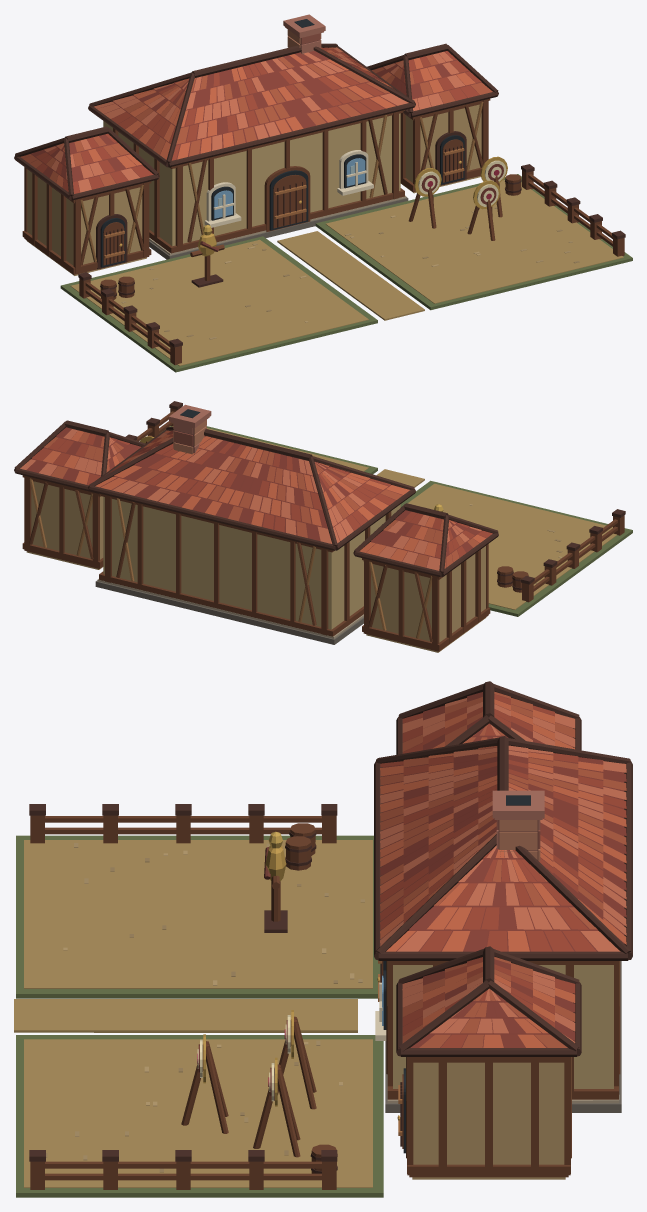
File: barracks-nivel-3.glb
3 renders of one model, top to bottom at view 1: azimuth 30°, elevation 25°; view 2: azimuth 150°, elevation 25°; view 3: azimuth 270°, elevation 25°, orthographic. The views are drawn at different scales.
Parts seen in each view (by area): view 1: Campo dos arqueiros #ad8f5a, Campo dos arqueiros #70432c, Campo dos arqueiros #4c3028, Campo dos arqueiros #bda371, Campo dos arqueiros #853e33, Campo dos arqueiros #b99a6a, Campo dos arqueiros #68744a, Campo dos arqueiros #9b4735, Campo dos arqueiros #c06b4f, Campo dos arqueiros #a8563c, Campo dos arqueiros #bf6243, Campo dos arqueiros #252c32 (+9 smaller); view 2: Campo dos arqueiros #70432c, Campo dos arqueiros #bda371, Campo dos arqueiros #4c3028, Campo dos arqueiros #853e33, Campo dos arqueiros #ad8f5a, Campo dos arqueiros #b99a6a, Campo dos arqueiros #bf6243, Campo dos arqueiros #c06b4f, Campo dos arqueiros #9b4735, Campo dos arqueiros #a8563c, Campo dos arqueiros #68744a, Campo dos arqueiros #746c62 (+4 smaller); view 3: Campo dos arqueiros #ad8f5a, Campo dos arqueiros #70432c, Campo dos arqueiros #4c3028, Campo dos arqueiros #853e33, Campo dos arqueiros #68744a, Campo dos arqueiros #9b4735, Campo dos arqueiros #c06b4f, Campo dos arqueiros #b99a6a, Campo dos arqueiros #bf6243, Campo dos arqueiros #a8563c, Campo dos arqueiros #bda371, Campo dos arqueiros #ac6f5e (+4 smaller).
Boxes of the visible parts, x1,y1,x2,y2 form: Campo dos arqueiros #ad8f5a: (70, 180, 623, 365); Campo dos arqueiros #70432c: (22, 98, 624, 365); Campo dos arqueiros #4c3028: (14, 43, 625, 347); Campo dos arqueiros #bda371: (103, 113, 400, 246); Campo dos arqueiros #853e33: (31, 49, 481, 192); Campo dos arqueiros #b99a6a: (26, 104, 481, 275); Campo dos arqueiros #68744a: (60, 174, 632, 372); Campo dos arqueiros #9b4735: (36, 47, 481, 193); Campo dos arqueiros #c06b4f: (44, 47, 464, 192); Campo dos arqueiros #a8563c: (20, 47, 492, 186); Campo dos arqueiros #bf6243: (56, 47, 475, 187); Campo dos arqueiros #252c32: (100, 19, 464, 267); Campo dos arqueiros #70432c: (22, 408, 624, 651); Campo dos arqueiros #bda371: (103, 496, 400, 629); Campo dos arqueiros #4c3028: (14, 401, 625, 589); Campo dos arqueiros #853e33: (26, 427, 486, 567); Campo dos arqueiros #ad8f5a: (172, 426, 616, 609); Campo dos arqueiros #b99a6a: (26, 481, 486, 652); Campo dos arqueiros #bf6243: (43, 430, 485, 561); Campo dos arqueiros #c06b4f: (20, 429, 481, 570); Campo dos arqueiros #9b4735: (32, 433, 492, 558); Campo dos arqueiros #a8563c: (44, 432, 479, 568); Campo dos arqueiros #68744a: (161, 426, 632, 616); Campo dos arqueiros #746c62: (95, 580, 363, 644); Campo dos arqueiros #ad8f5a: (14, 840, 372, 1187); Campo dos arqueiros #70432c: (30, 815, 620, 1189); Campo dos arqueiros #4c3028: (29, 681, 632, 1173); Campo dos arqueiros #853e33: (380, 692, 626, 1047); Campo dos arqueiros #68744a: (16, 835, 383, 1197); Campo dos arqueiros #9b4735: (380, 694, 626, 1047); Campo dos arqueiros #c06b4f: (380, 698, 626, 1042); Campo dos arqueiros #b99a6a: (412, 1062, 565, 1179); Campo dos arqueiros #bf6243: (380, 699, 626, 1047); Campo dos arqueiros #a8563c: (380, 691, 626, 1047); Campo dos arqueiros #bda371: (393, 965, 613, 1088); Campo dos arqueiros #ac6f5e: (492, 790, 544, 848).
Bounding box in the file's own units: 13.45 × 4.64 × 9.85.
